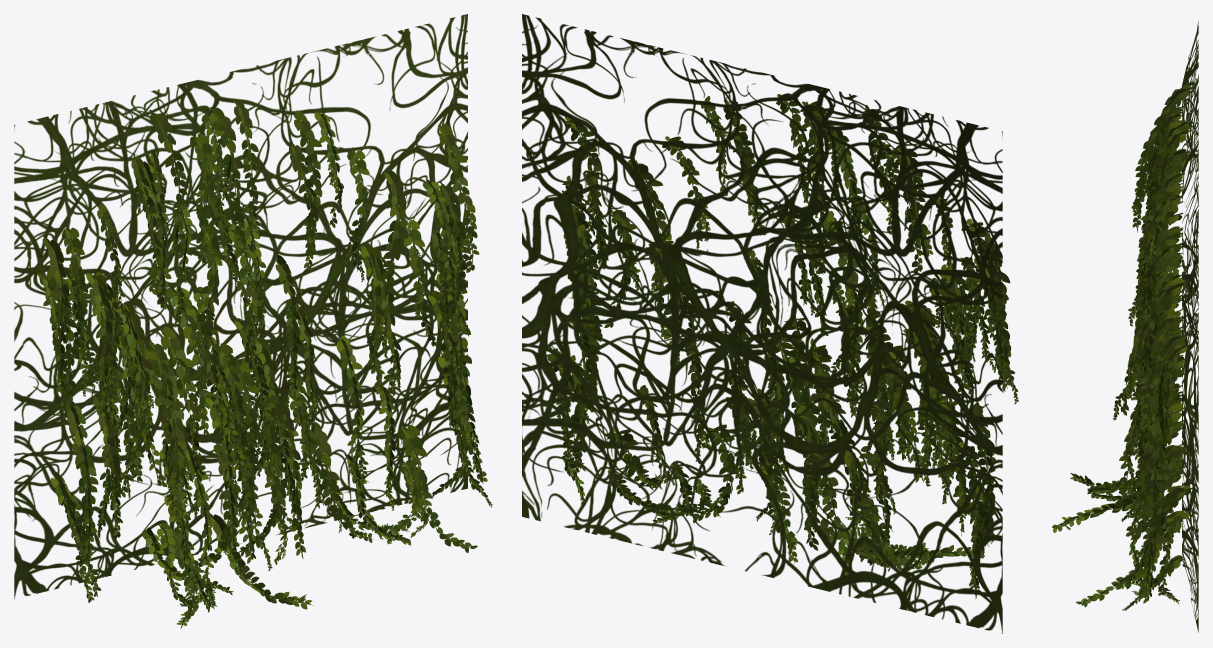
File: vine.glb
3 renders of one model, left to right at view 1: azimuth 30°, elevation 25°; view 2: azimuth 150°, elevation 25°; view 3: azimuth 270°, elevation 25°, orthographic. The views are drawn at different scales.
Parts seen in each view (by area): view 1: Hanging_plant_side_5_no_flowers_floor_LOD0_Hanging_plant_mat, Hanging_plant_side_5_no_flowers_floor_LOD0_Ivy_Mat_0; view 2: Hanging_plant_side_5_no_flowers_floor_LOD0_Ivy_Mat_0, Hanging_plant_side_5_no_flowers_floor_LOD0_Hanging_plant_mat; view 3: Hanging_plant_side_5_no_flowers_floor_LOD0_Hanging_plant_mat, Hanging_plant_side_5_no_flowers_floor_LOD0_Ivy_Mat_0.
Boxes of the visible parts, box(x1,y1,x2,y2) form: Hanging_plant_side_5_no_flowers_floor_LOD0_Hanging_plant_mat: box(37, 98, 492, 628); Hanging_plant_side_5_no_flowers_floor_LOD0_Ivy_Mat_0: box(14, 14, 467, 598); Hanging_plant_side_5_no_flowers_floor_LOD0_Ivy_Mat_0: box(522, 14, 1002, 633); Hanging_plant_side_5_no_flowers_floor_LOD0_Hanging_plant_mat: box(545, 93, 1018, 599); Hanging_plant_side_5_no_flowers_floor_LOD0_Hanging_plant_mat: box(1052, 85, 1194, 610); Hanging_plant_side_5_no_flowers_floor_LOD0_Ivy_Mat_0: box(1182, 21, 1198, 632).
Bounding box in the file's own units: 10.07 × 10.21 × 3.25.
2 materials, 2 textured.
